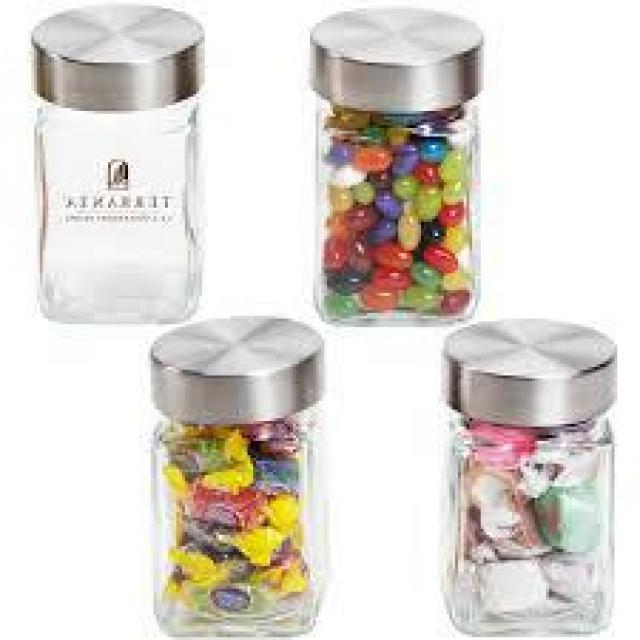glass: (27, 1, 209, 326), (148, 313, 327, 640), (437, 315, 616, 640), (306, 4, 485, 326)
